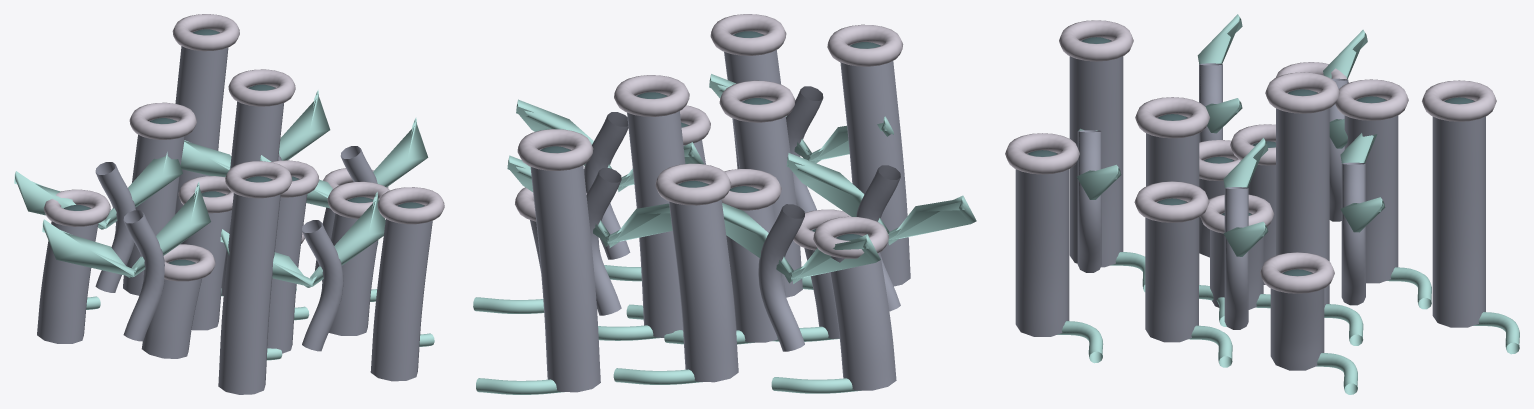
Rendered from bio_thermal_colony_12_near.glb.
3 views of the same model, side by side, from view 1: azimuth 30°, elevation 25°; view 2: azimuth 150°, elevation 25°; view 3: azimuth 270°, elevation 25° (orthographic). The views are drawn at different scales.
Parts seen in each view (by area): view 1: Chimney biofilm.007, Chimney biofilm.010, Chimney biofilm.009, Chimney biofilm.011, Secondary fan lobe.008, Chimney biofilm.002, Chimney biofilm.004, Chimney biofilm.005, Chimney biofilm.006, Secondary fan lobe.006, Branching support.002, Branching support.004 (+18 smaller); view 2: Chimney biofilm.011, Chimney biofilm.006, Chimney biofilm.007, Chimney biofilm.003, Chimney biofilm.009, Secondary fan lobe.008, Chimney biofilm.002, Branching support.001, Chimney biofilm.001, Secondary fan lobe.002, Branching support.003, Open vent rim.006 (+24 smaller); view 3: Chimney biofilm.011, Chimney biofilm.010, Chimney biofilm.003, Chimney biofilm.007, Chimney biofilm.005, Chimney biofilm.006, Chimney biofilm.008, Branching support.003, Branching support, Branching support.002, Chimney biofilm.002, Open vent rim.007 (+28 smaller).
Part boxes in pixels (bbox=[...]): Chimney biofilm.007: bbox=[218, 178, 280, 394]; Chimney biofilm.010: bbox=[370, 204, 432, 381]; Chimney biofilm.009: bbox=[37, 207, 98, 343]; Chimney biofilm.011: bbox=[175, 31, 228, 213]; Secondary fan lobe.008: bbox=[42, 182, 210, 277]; Chimney biofilm.002: bbox=[267, 178, 307, 353]; Chimney biofilm.004: bbox=[141, 261, 201, 358]; Chimney biofilm.005: bbox=[329, 199, 378, 335]; Chimney biofilm.006: bbox=[123, 120, 184, 295]; Secondary fan lobe.006: bbox=[180, 90, 330, 176]; Branching support.002: bbox=[302, 220, 343, 351]; Branching support.004: bbox=[123, 210, 164, 341]; Chimney biofilm.011: bbox=[530, 148, 600, 392]; Chimney biofilm.006: bbox=[669, 183, 738, 382]; Chimney biofilm.007: bbox=[840, 44, 910, 286]; Chimney biofilm.003: bbox=[627, 95, 685, 337]; Chimney biofilm.009: bbox=[830, 236, 896, 390]; Secondary fan lobe.008: bbox=[786, 153, 976, 245]; Chimney biofilm.002: bbox=[733, 100, 802, 297]; Branching support.001: bbox=[758, 204, 804, 351]; Chimney biofilm.001: bbox=[726, 188, 785, 342]; Secondary fan lobe.002: bbox=[722, 203, 880, 283]; Branching support.003: bbox=[586, 168, 621, 315]; Open vent rim.006: bbox=[655, 163, 731, 205]; Chimney biofilm.011: bbox=[1432, 100, 1485, 327]; Chimney biofilm.010: bbox=[1015, 152, 1069, 336]; Chimney biofilm.003: bbox=[1276, 92, 1329, 307]; Chimney biofilm.007: bbox=[1069, 40, 1123, 267]; Chimney biofilm.005: bbox=[1145, 201, 1198, 342]; Chimney biofilm.006: bbox=[1344, 99, 1398, 283]; Chimney biofilm.008: bbox=[1270, 272, 1324, 370]; Branching support.003: bbox=[1341, 162, 1365, 305]; Branching support: bbox=[1224, 187, 1248, 329]; Branching support.002: bbox=[1077, 130, 1101, 272]; Chimney biofilm.002: bbox=[1146, 116, 1199, 284]; Open vent rim.007: bbox=[1059, 20, 1133, 61].
Size of the model in its own units: 1.85 by 0.9895 by 1.92.
